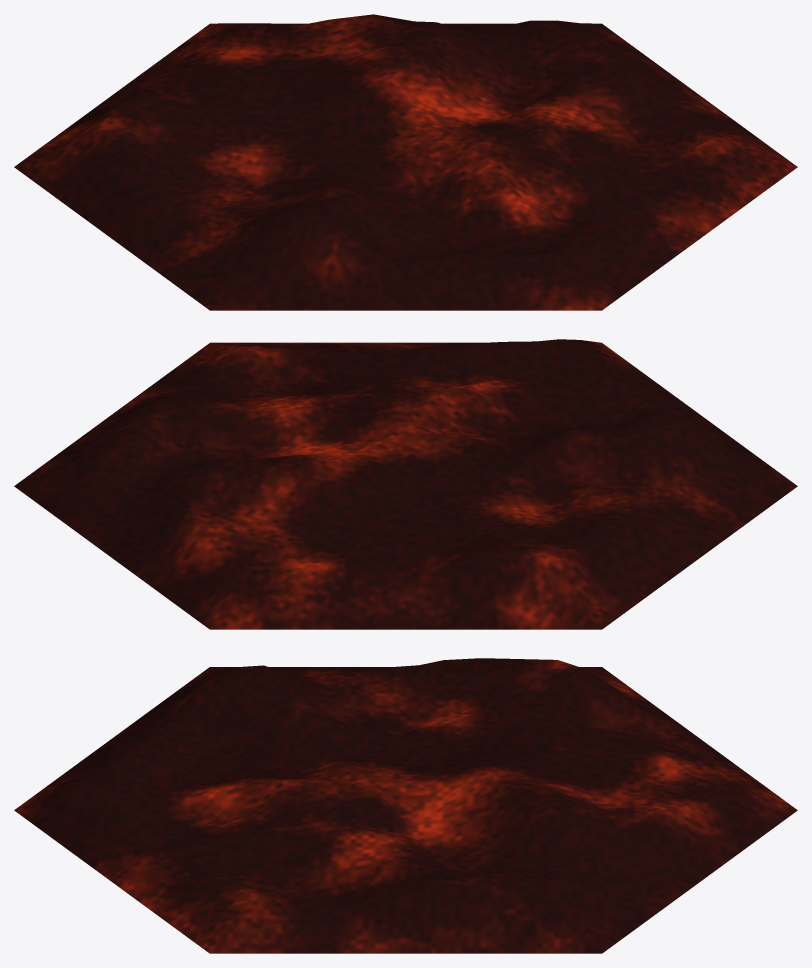
File: HexSoil_s07.fbx
The picture shows the model from 3 angles, top to bottom: view 1: azimuth 30°, elevation 25°; view 2: azimuth 150°, elevation 25°; view 3: azimuth 270°, elevation 25°; orthographic projection.
Visible parts, largest first — view 1: HexSoil_s07; view 2: HexSoil_s07; view 3: HexSoil_s07.
Part boxes in pixels (bbox=[...]): HexSoil_s07: bbox=[14, 14, 797, 310]; HexSoil_s07: bbox=[14, 339, 797, 629]; HexSoil_s07: bbox=[14, 658, 797, 953].
Size of the model in its own units: 86.6 by 7.58 by 100.
Materials: 1 (1 with a texture image).
